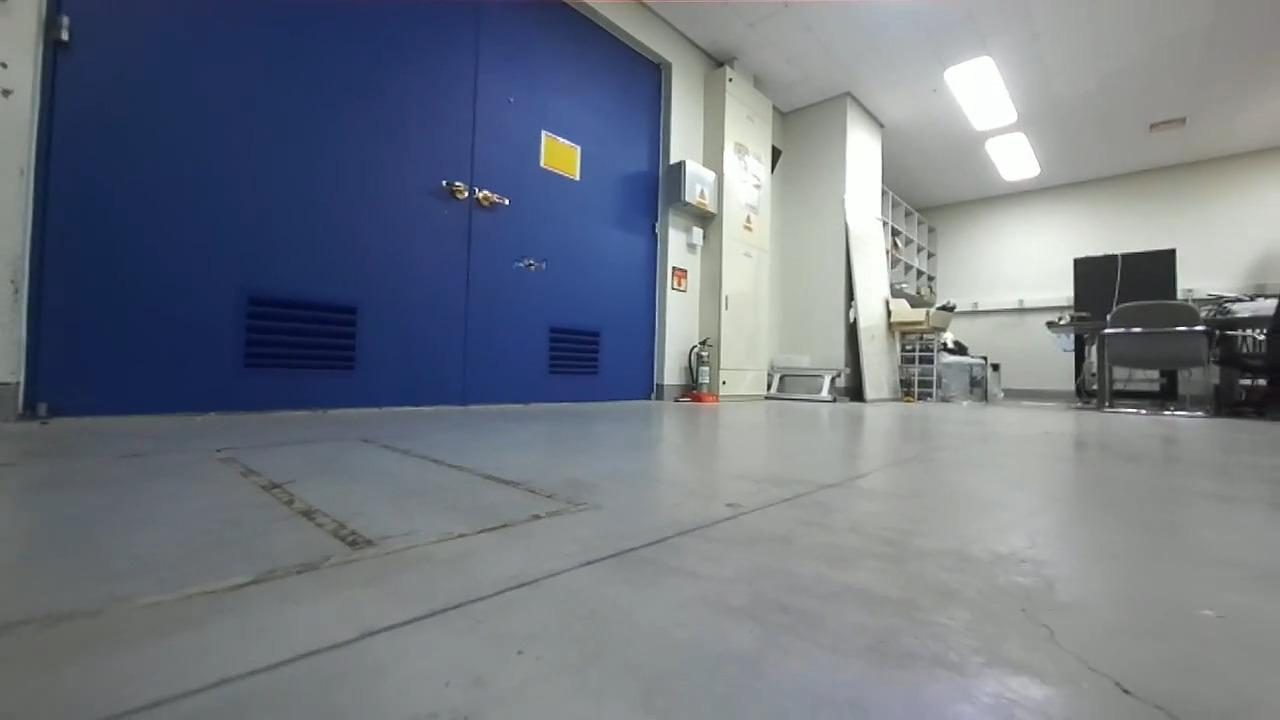crazyflie: (503, 250, 553, 280)
